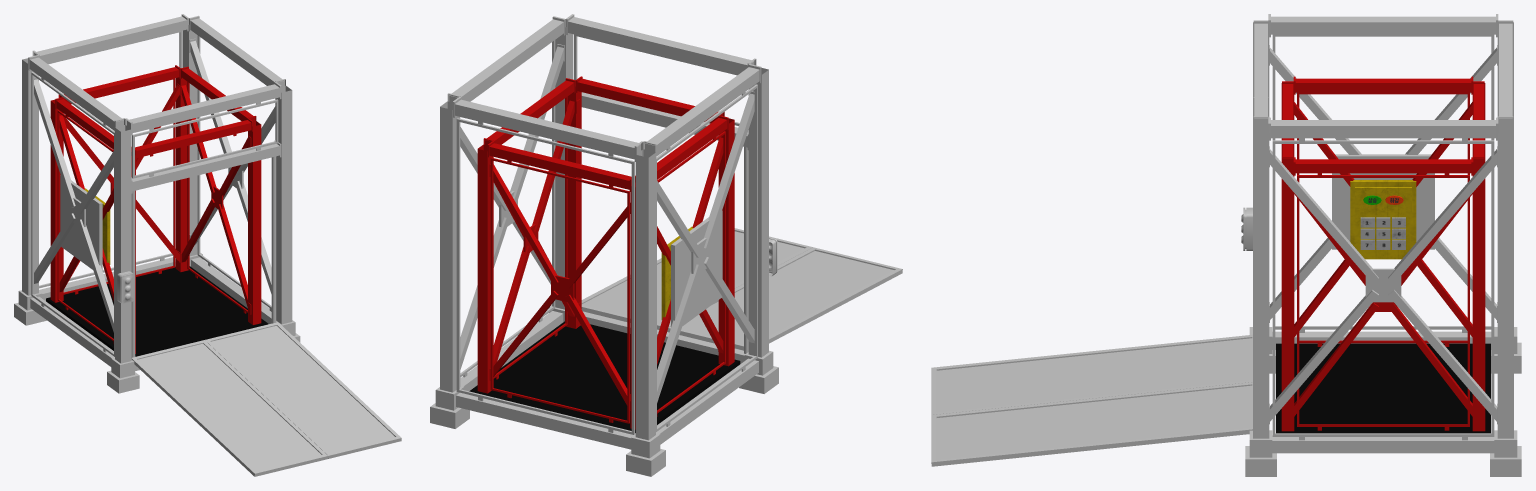
File: Con_ConstructionLiftRoot.fbx
3 renders of one model, left to right at view 1: azimuth 30°, elevation 25°; view 2: azimuth 150°, elevation 25°; view 3: azimuth 270°, elevation 25°, orthographic. The views are drawn at different scales.
Parts seen in each view (by area): view 1: ConstructionLiftRoot, SM_ConstructionLift11, Npad, Numpad; view 2: ConstructionLiftRoot, SM_ConstructionLift11, Numpad; view 3: ConstructionLiftRoot, SM_ConstructionLift11, Numpad.
Part boxes in pixels (<box>): ConstructionLiftRoot: <box>14,14,401,476</box>; SM_ConstructionLift11: <box>46,65,268,356</box>; Npad: <box>117,271,134,303</box>; Numpad: <box>84,188,110,264</box>; ConstructionLiftRoot: <box>430,14,902,476</box>; SM_ConstructionLift11: <box>469,76,740,432</box>; Numpad: <box>661,226,693,319</box>; ConstructionLiftRoot: <box>931,14,1521,476</box>; SM_ConstructionLift11: <box>1276,76,1490,433</box>; Numpad: <box>1350,180,1416,259</box>.
Size of the model in its own units: 2.94 by 4.11 by 6.27.
